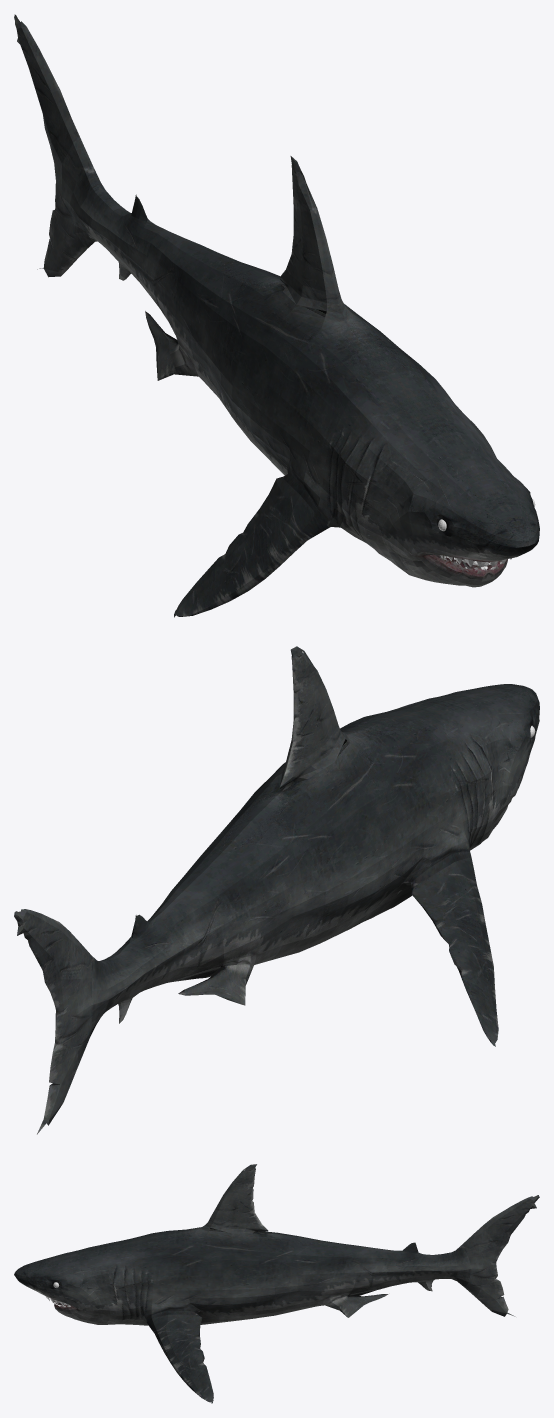
File: shark.glb
3 renders of one model, top to bottom at view 1: azimuth 30°, elevation 25°; view 2: azimuth 150°, elevation 25°; view 3: azimuth 270°, elevation 25°, orthographic. The views are drawn at different scales.
Parts seen in each view (by area): view 1: Shark; view 2: Shark; view 3: Shark.
Part boxes in pixels (x1=…): Shark: x1=14, y1=14, x2=539, y2=617; Shark: x1=14, y1=646, x2=539, y2=1134; Shark: x1=14, y1=1164, x2=539, y2=1403.
Bounding box in the file's own units: 8.73 × 10.11 × 24.15.
Materials: 3 (1 with a texture image).
